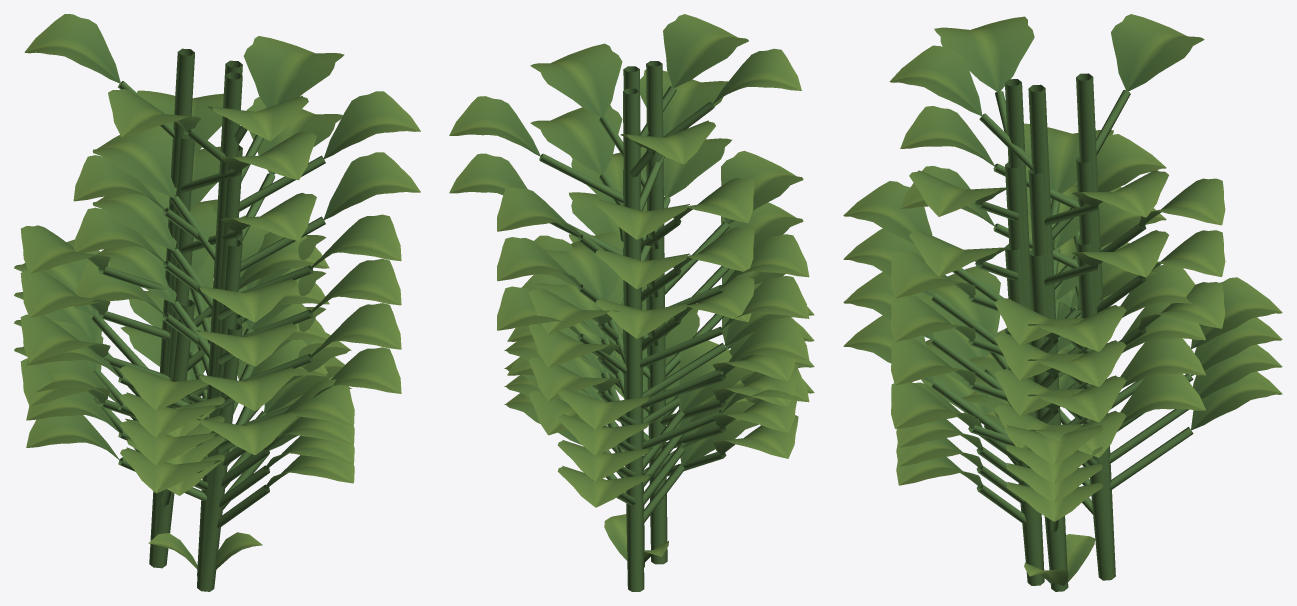
File: ramie.glb
3 views of the same model, side by side, from view 1: azimuth 30°, elevation 25°; view 2: azimuth 150°, elevation 25°; view 3: azimuth 270°, elevation 25° (orthographic). The views are drawn at different scales.
Visible parts, largest first — view 1: Phase4, Phase3, Phase2, Phase1, Phase0; view 2: Phase4, Phase3, Phase2, Phase1, Phase0; view 3: Phase4, Phase3, Phase2, Phase1, Phase0.
Part boxes in pixels (left/top/right/bottom): Phase4: left=14, top=14, right=420, bottom=591; Phase3: left=14, top=97, right=420, bottom=587; Phase2: left=14, top=199, right=401, bottom=588; Phase1: left=14, top=299, right=401, bottom=591; Phase0: left=148, top=532, right=262, bottom=569; Phase4: left=449, top=14, right=814, bottom=591; Phase3: left=449, top=105, right=814, bottom=584; Phase2: left=497, top=230, right=814, bottom=591; Phase1: left=504, top=284, right=814, bottom=589; Phase0: left=604, top=514, right=668, bottom=562; Phase4: left=843, top=14, right=1282, bottom=590; Phase3: left=843, top=156, right=1282, bottom=587; Phase2: left=843, top=227, right=1282, bottom=580; Phase1: left=843, top=315, right=1282, bottom=591; Phase0: left=1024, top=534, right=1095, bottom=585.
Bounding box in the file's own units: 0.7574 × 1.14 × 0.8699.
